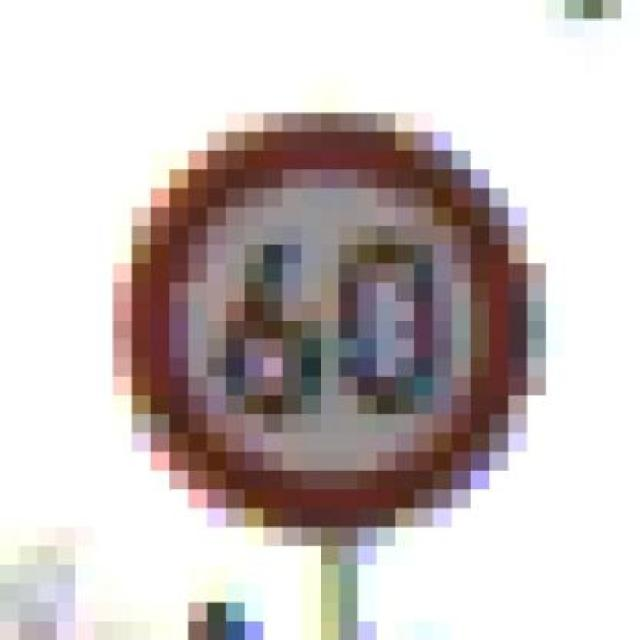forb_speed_over_60: (136, 130, 519, 518)
